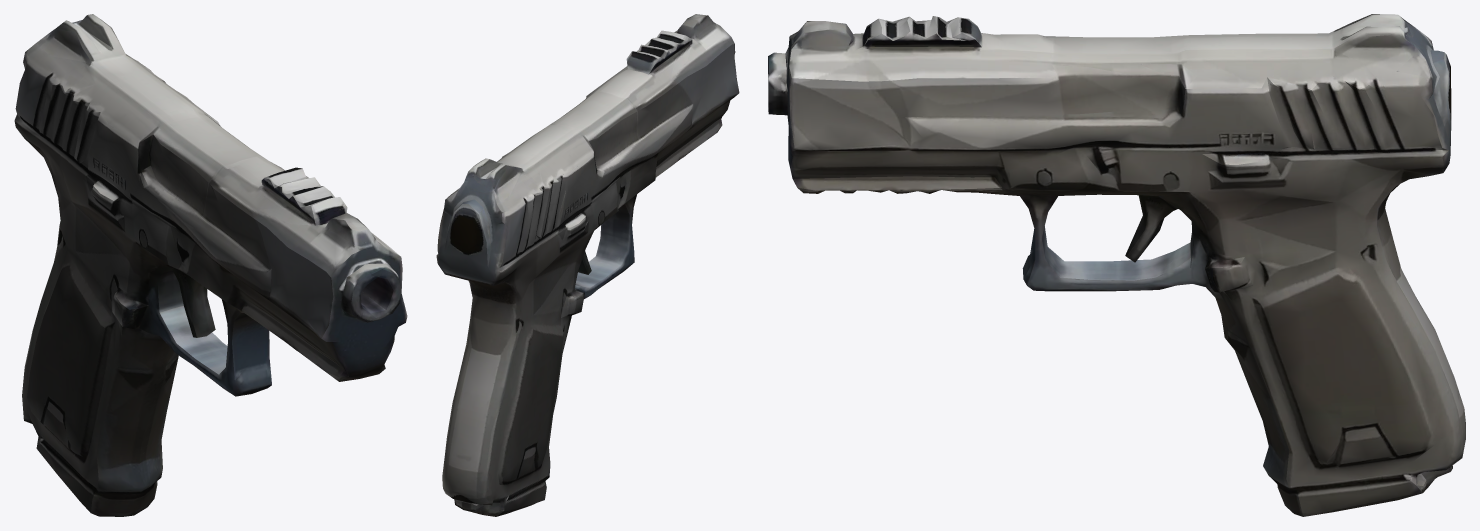
Rendered from handgun.glb.
3 views of the same model, side by side, from view 1: azimuth 30°, elevation 25°; view 2: azimuth 150°, elevation 25°; view 3: azimuth 270°, elevation 25° (orthographic). The views are drawn at different scales.
Visible parts, largest first — view 1: Handgun; view 2: Handgun; view 3: Handgun.
Part boxes in pixels (bbox=[...]): Handgun: bbox=[14, 14, 407, 516]; Handgun: bbox=[436, 14, 739, 516]; Handgun: bbox=[768, 14, 1465, 516].
Bounding box in the file's own units: 0.0328 × 0.1454 × 0.19.
1 material, 1 textured.
